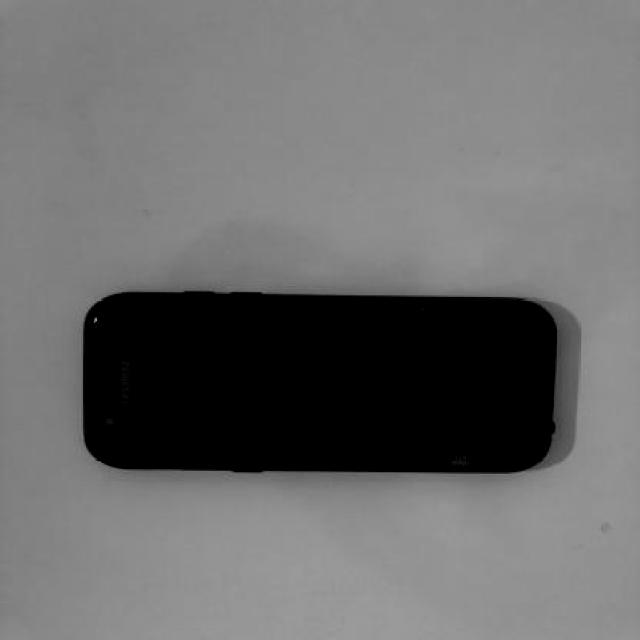fake: (80, 296, 554, 472)
